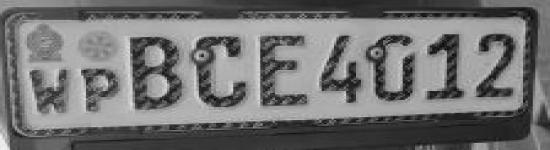0: (370, 32, 425, 104)
1: (427, 32, 471, 104)
2: (472, 28, 520, 100)
4: (316, 34, 366, 108)
B: (193, 32, 253, 112), (127, 35, 185, 112)
E: (256, 34, 316, 111)
P: (78, 65, 124, 117)
W: (26, 66, 74, 116)
